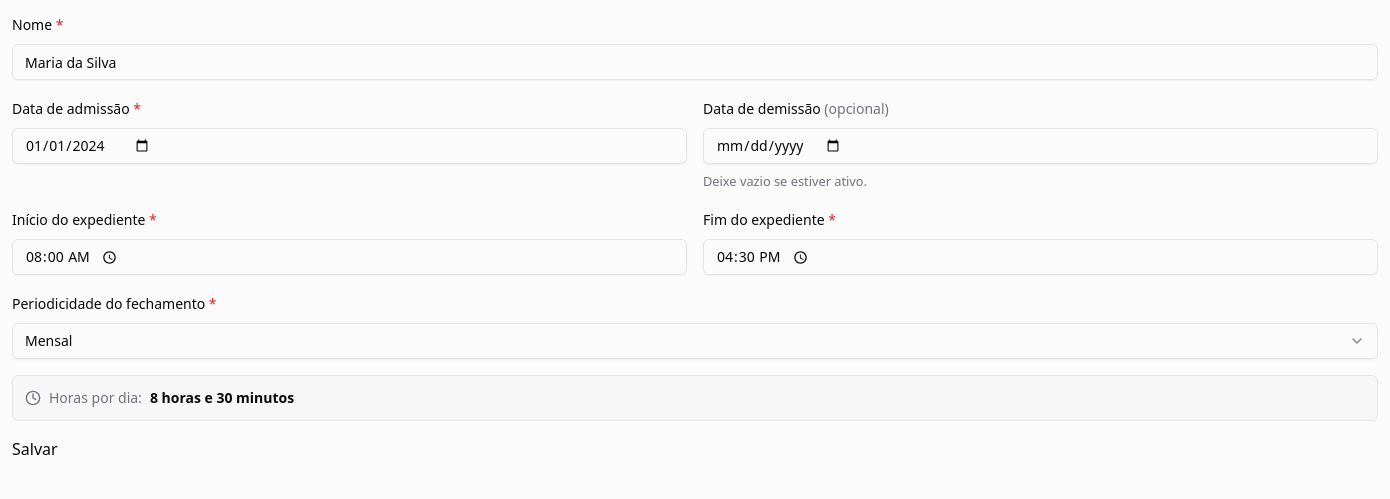
it: EmployeeForm › revalidates the other side when admission or start changes
Step 1. Type "2024-01-31" into the date field labelled "Data de demissão (opcional)" → (1040, 146), box [703,128,1378,164]
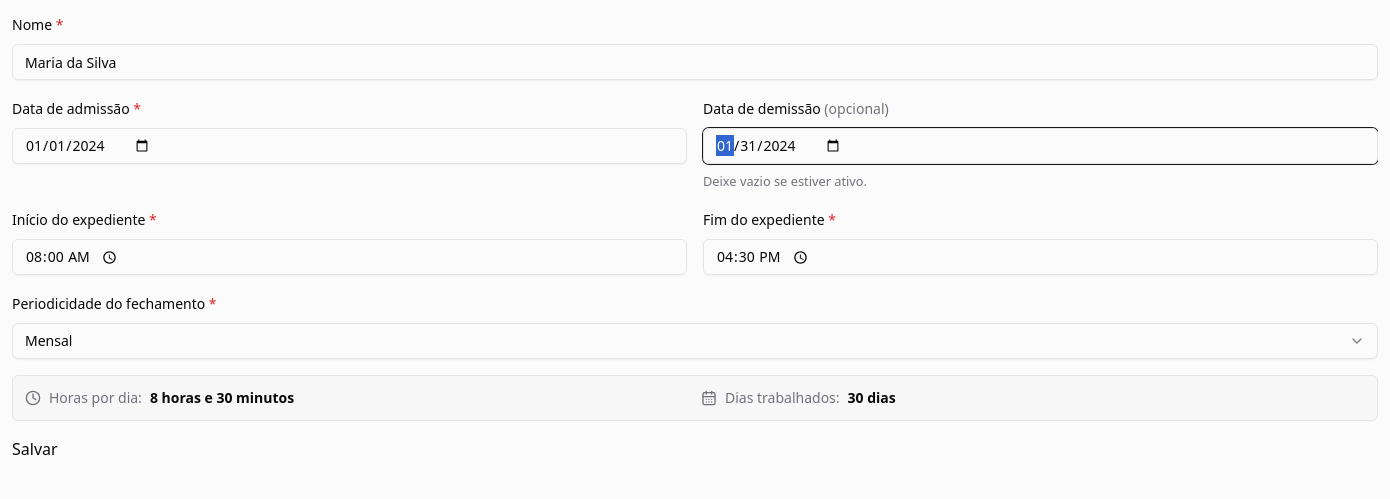
Step 2. Type "2024-02-15" into the date field labelled "Data de admissão *" → (350, 146), box [12,128,687,164]
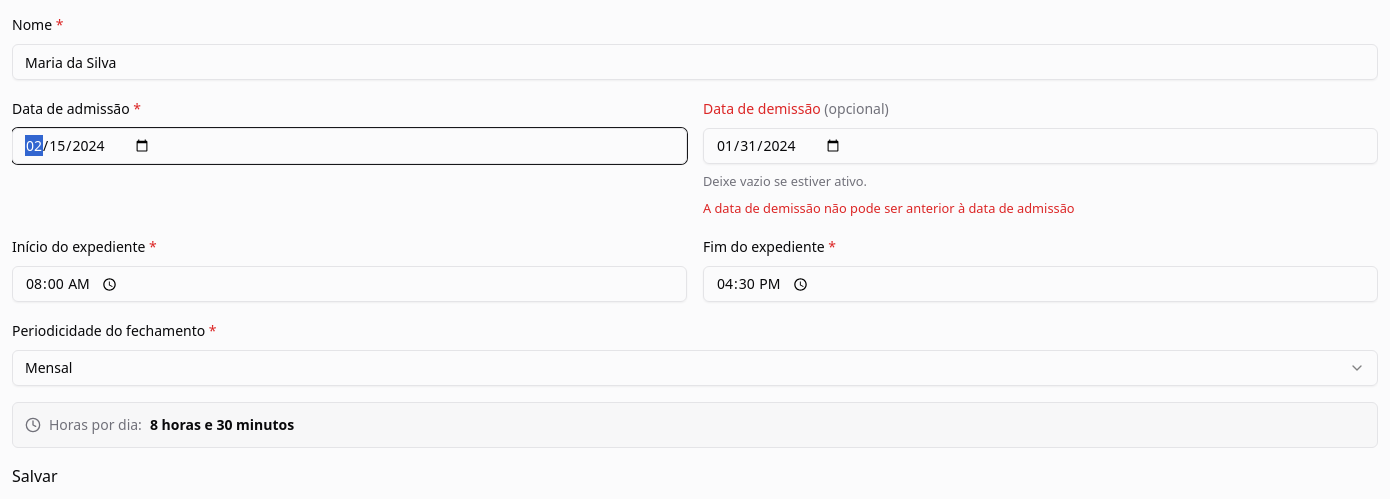
Now the text "A data de demissão não pode ser anterior à data de admissão" is shown, box [703,199,1075,217]
